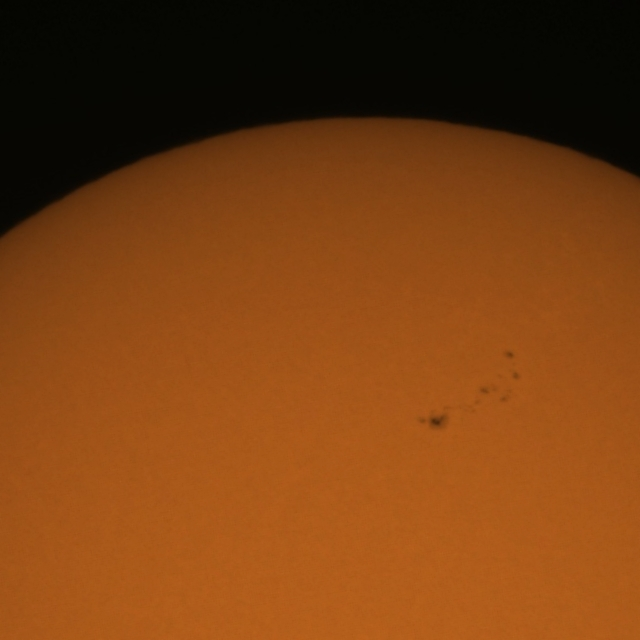sunspot: (477, 370, 522, 404), (416, 404, 452, 431), (502, 349, 516, 360)
